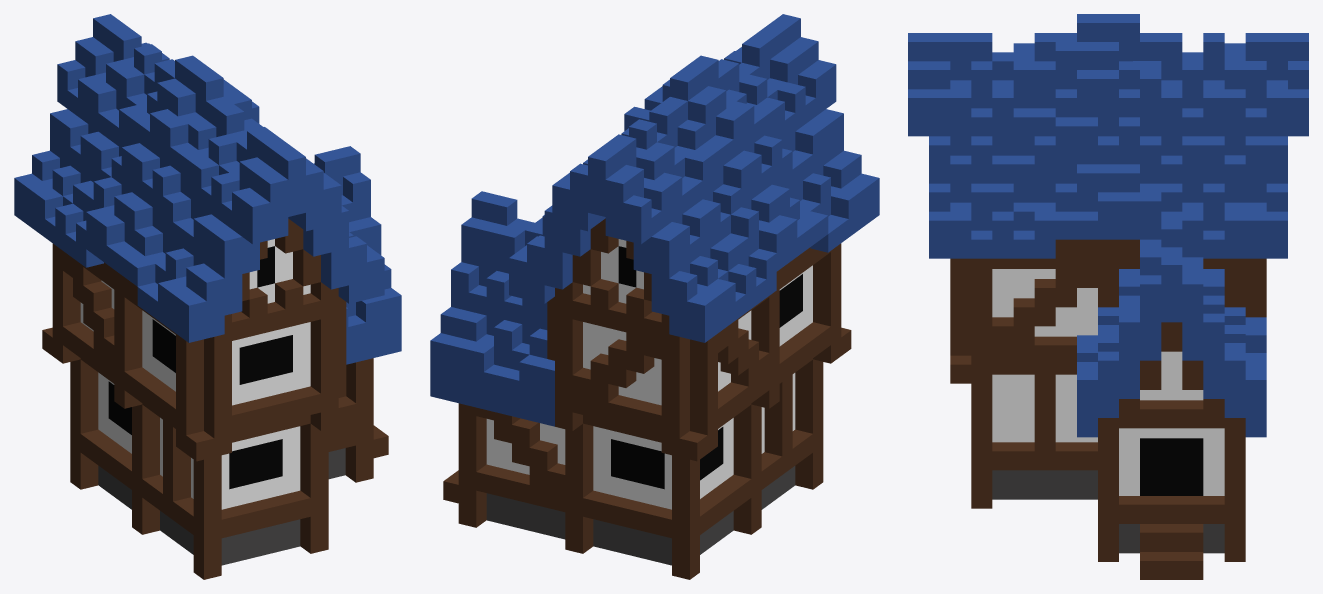
File: house08.fbx
3 renders of one model, left to right at view 1: azimuth 30°, elevation 25°; view 2: azimuth 150°, elevation 25°; view 3: azimuth 270°, elevation 25°, orthographic. The views are drawn at different scales.
Visible parts, largest first — view 1: house1-11; view 2: house1-11; view 3: house1-11.
Boxes of the visible parts, left/top/right/bottom form: house1-11: left=14, top=14, right=401, bottom=579; house1-11: left=430, top=14, right=879, bottom=579; house1-11: left=908, top=14, right=1308, bottom=579.
Bounding box in the file's own units: 1700 × 2400 × 1900.
